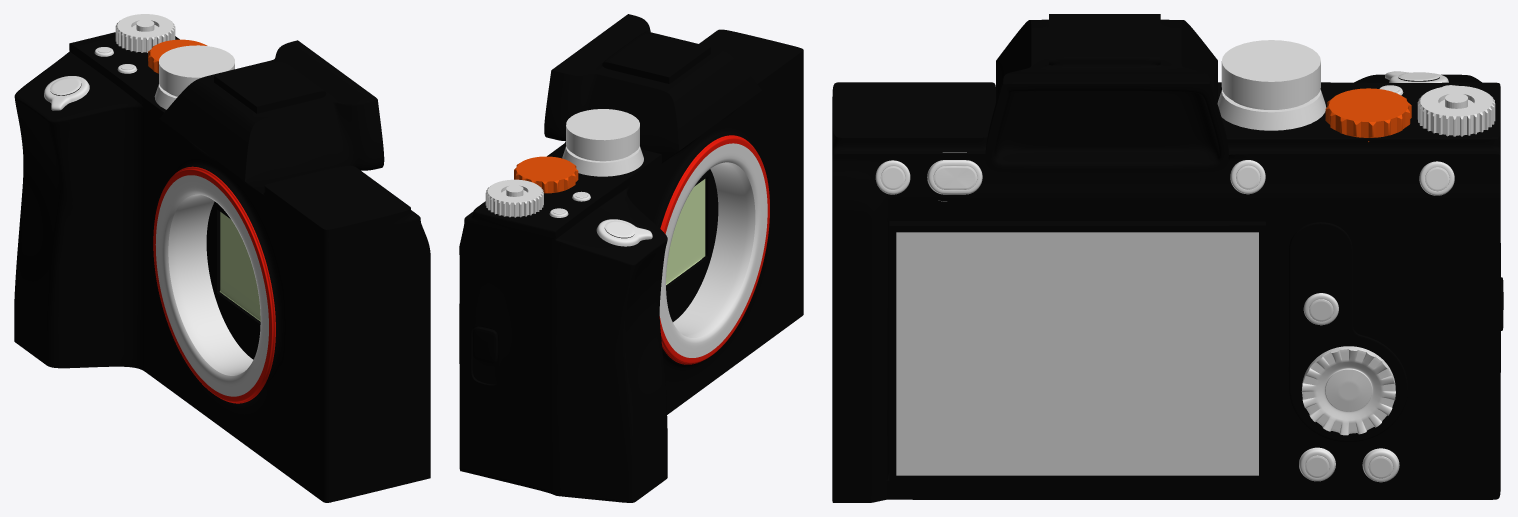
File: remodel-knobs.glb
The picture shows the model from 3 angles, left to right: view 1: azimuth 30°, elevation 25°; view 2: azimuth 150°, elevation 25°; view 3: azimuth 270°, elevation 25°; orthographic projection. The views are drawn at different scales.
Visible parts, largest first — view 1: Cam, ModeKnob, Knob, Circle.006, Idk; view 2: Cam, ModeKnob, Knob, Idk, Circle.006; view 3: Cam, Display.001, Detail, ModeKnob, IsoButton, Idk, Knob, Circle.005, Circle.010, Circle.009, Circle.003, Circle.001 (+2 smaller).
Part boxes in pixels (x1=…): Cam: x1=14, y1=32, x2=430, y2=502; ModeKnob: x1=154, y1=45, x2=234, y2=109; Knob: x1=115, y1=14, x2=175, y2=52; Circle.006: x1=44, y1=76, x2=89, y2=110; Idk: x1=148, y1=39, x2=207, y2=73; Cam: x1=459, y1=14, x2=803, y2=502; ModeKnob: x1=562, y1=109, x2=643, y2=176; Knob: x1=485, y1=179, x2=543, y2=217; Idk: x1=514, y1=156, x2=578, y2=193; Circle.006: x1=596, y1=219, x2=652, y2=246; Cam: x1=832, y1=14, x2=1503, y2=502; Display.001: x1=889, y1=221, x2=1265, y2=482; Detail: x1=1288, y1=222, x2=1407, y2=441; ModeKnob: x1=1217, y1=40, x2=1326, y2=130; IsoButton: x1=1301, y1=346, x2=1395, y2=435; Idk: x1=1325, y1=88, x2=1411, y2=141; Knob: x1=1417, y1=85, x2=1495, y2=136; Circle.005: x1=927, y1=152, x2=982, y2=201; Circle.010: x1=1362, y1=448, x2=1399, y2=482; Circle.009: x1=1299, y1=447, x2=1335, y2=481; Circle.003: x1=1419, y1=161, x2=1454, y2=195; Circle.001: x1=1230, y1=160, x2=1265, y2=194.
Bounding box in the file's own units: 0.0829 × 0.1426 × 0.2009.
